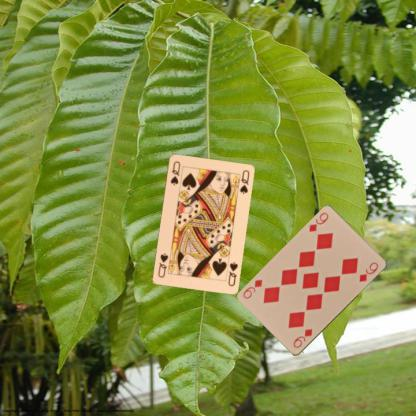9d: (290, 326, 314, 349), (306, 210, 329, 233)
Qs: (225, 259, 240, 287), (168, 158, 182, 186)
